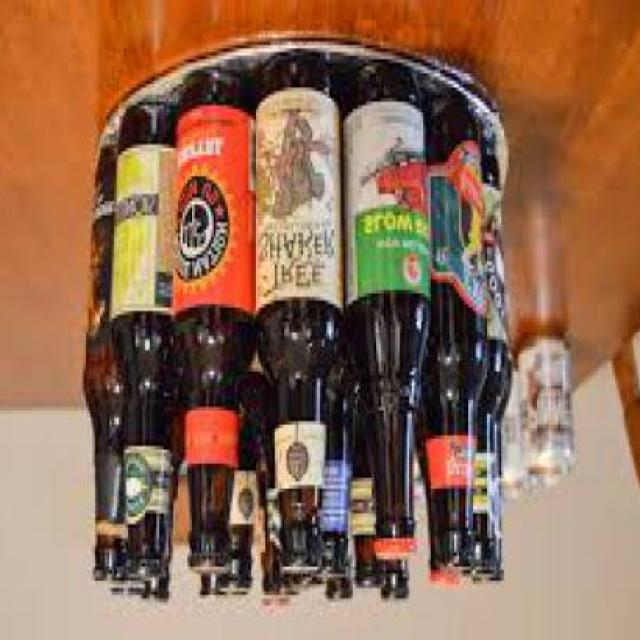kaca: (252, 55, 344, 573), (177, 76, 254, 574), (343, 69, 423, 534), (108, 112, 182, 580), (414, 102, 486, 578), (81, 148, 133, 584), (464, 144, 506, 592), (209, 382, 253, 602), (256, 386, 296, 616), (310, 372, 352, 584), (346, 418, 379, 594), (144, 460, 172, 606), (374, 556, 408, 606), (108, 570, 146, 602), (324, 578, 352, 608), (195, 580, 223, 608), (298, 578, 322, 592)
